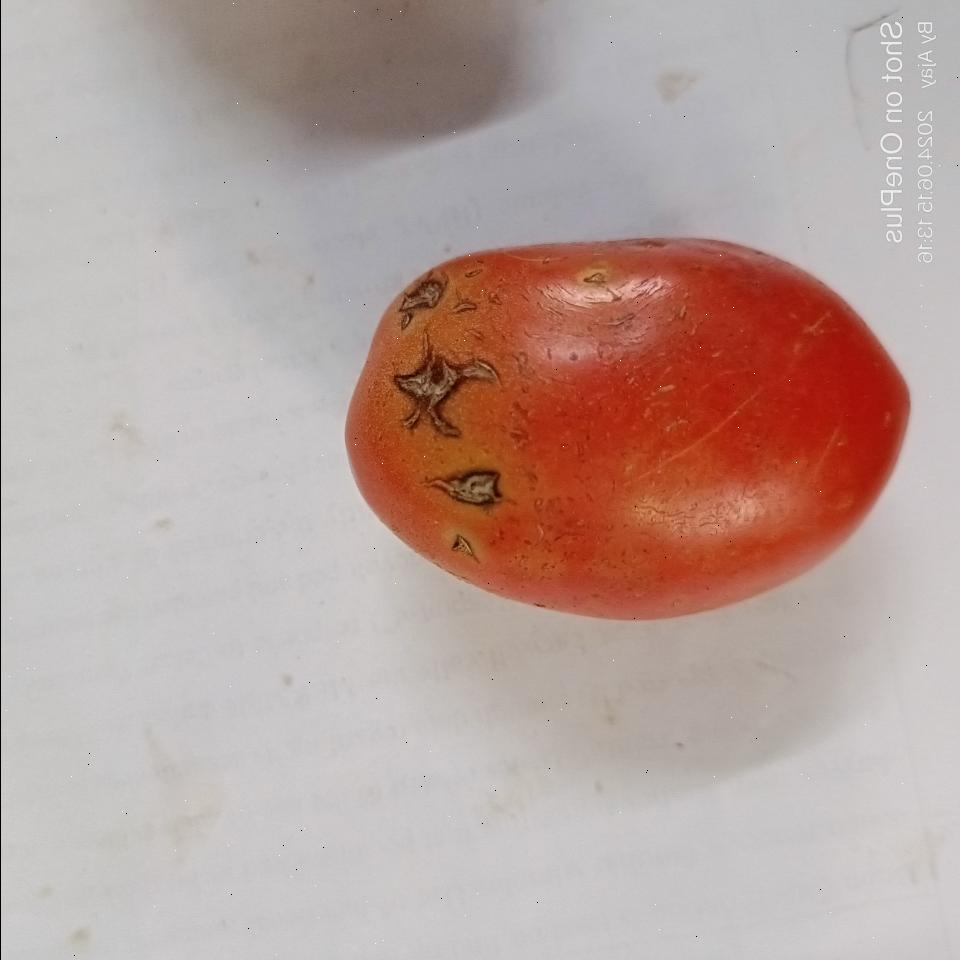Bacterial_Spot: (383, 354, 469, 442), (390, 272, 450, 332), (426, 468, 499, 510)
